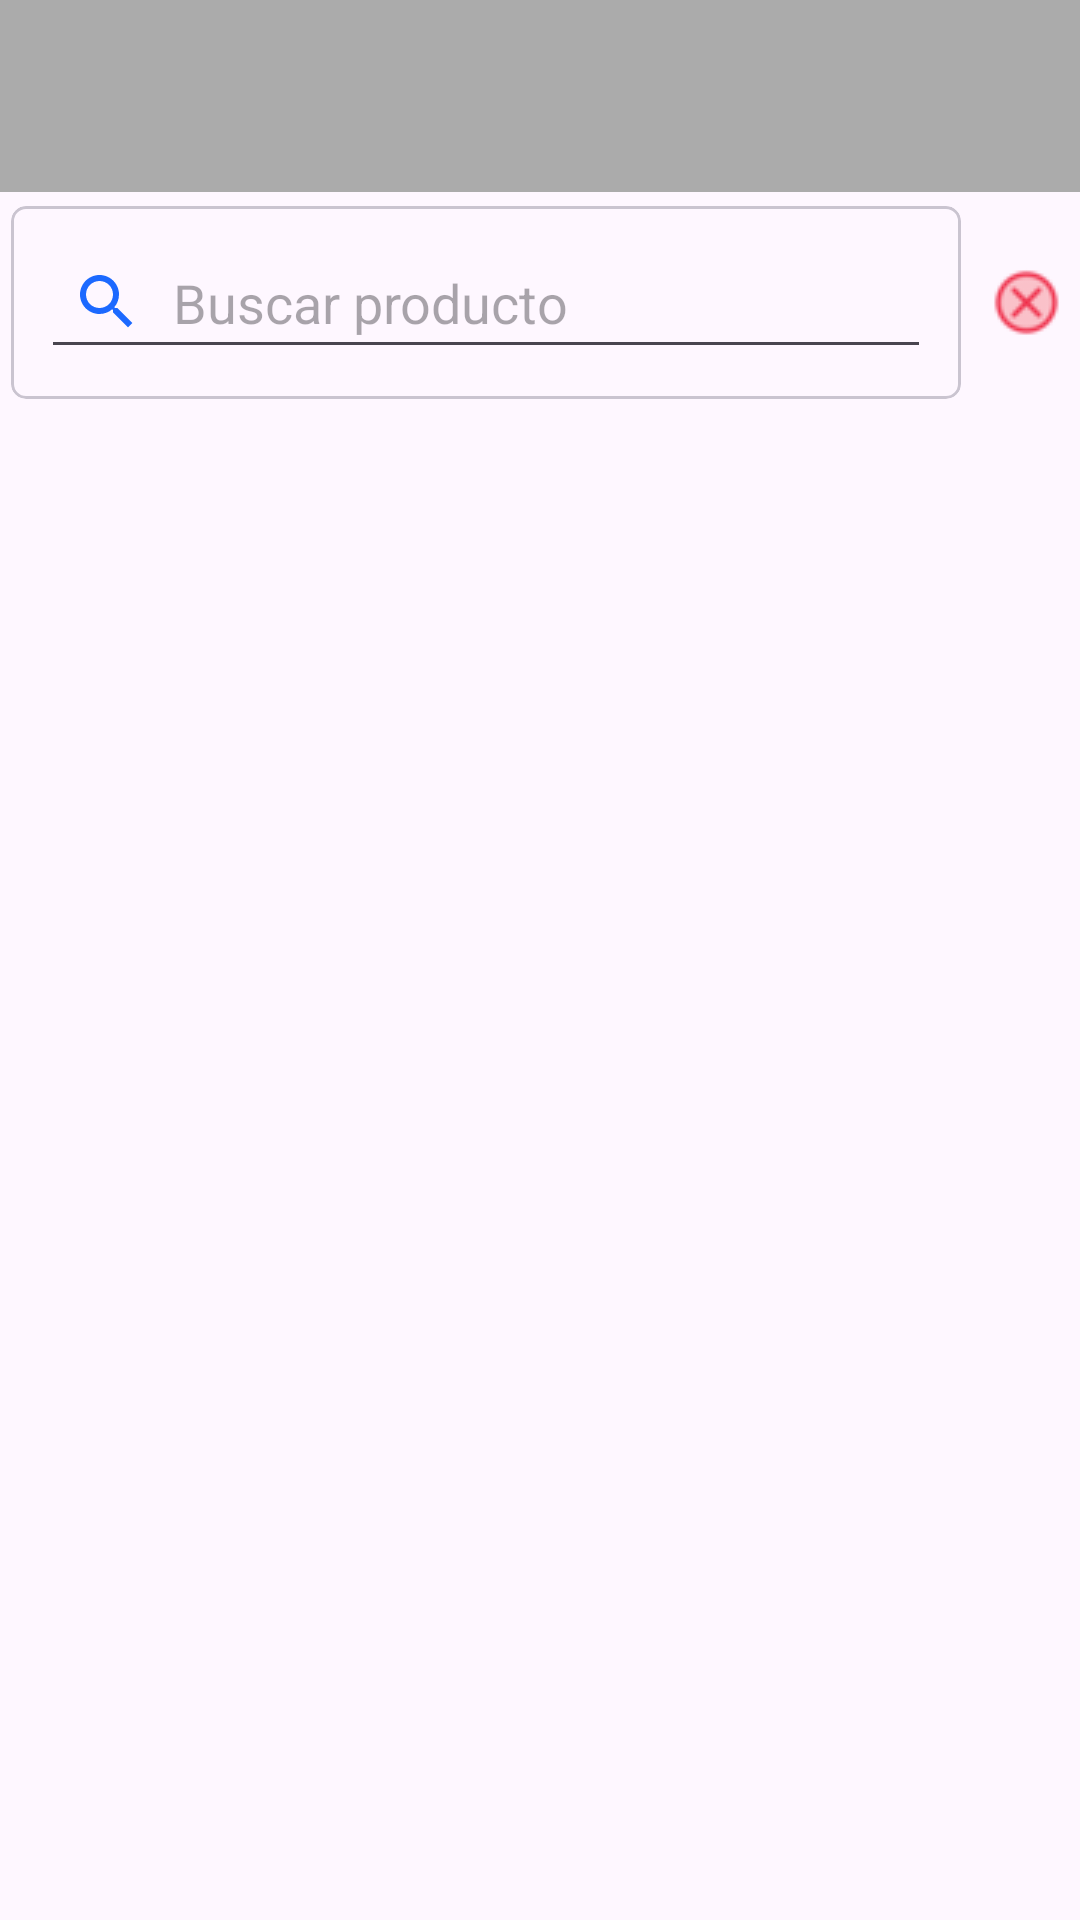

Point at icon controls on the screen. Image size 1080x1920, points as [x,y].
icocerrar: [1026,302]
